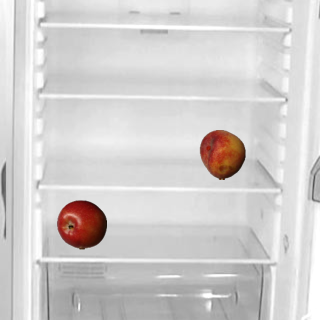Apple Braeburn: (56, 199, 106, 249)
Peach: (197, 129, 247, 179)
